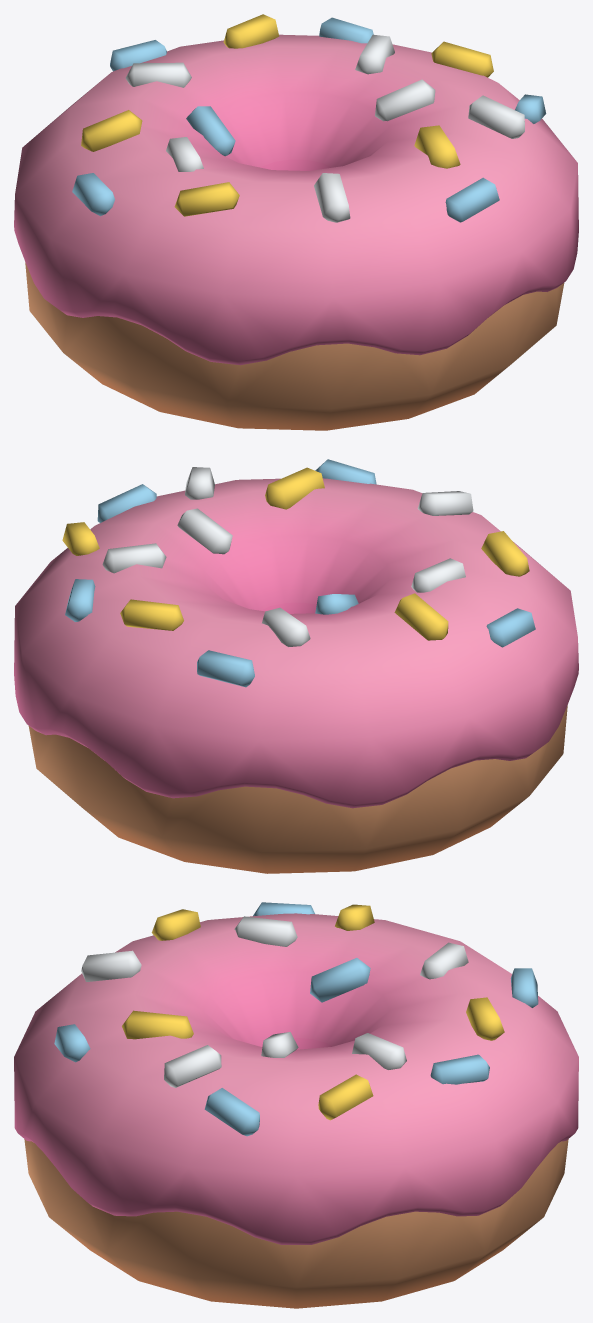
File: donut-pink.glb
3 views of the same model, one above another, from view 1: azimuth 30°, elevation 25°; view 2: azimuth 150°, elevation 25°; view 3: azimuth 270°, elevation 25° (orthographic).
Visible parts, largest first — view 1: donut_pink; view 2: donut_pink; view 3: donut_pink.
Part boxes in pixels (x1,y1,x2,y2): donut_pink: (14, 14, 578, 430); donut_pink: (14, 459, 578, 873); donut_pink: (14, 902, 578, 1308).
Bounding box in the file's own units: 0.417 × 0.2047 × 0.417.
Materials: 1 (1 with a texture image).
